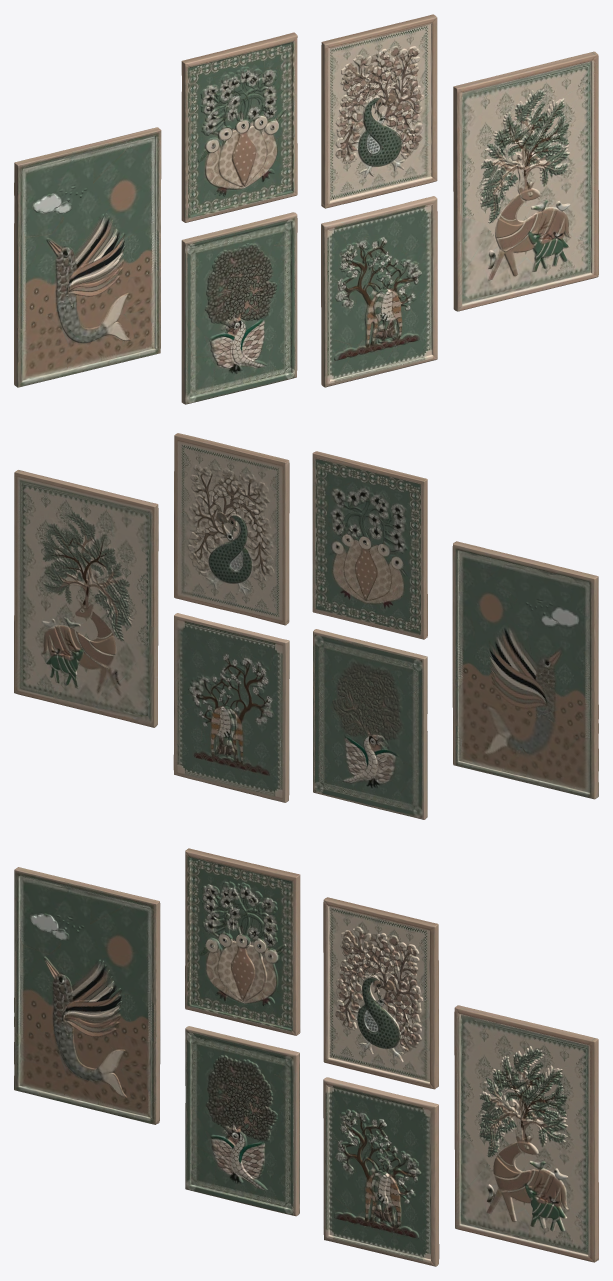
The model's file is Meshy_AI_Enchanted_Folk_Menage_0920121903_texture.glb.
The picture shows the model from 3 angles, top to bottom: view 1: azimuth 30°, elevation 25°; view 2: azimuth 150°, elevation 25°; view 3: azimuth 330°, elevation 25°; orthographic projection.
Size of the model in its own units: 1.9 by 1.12 by 0.0453.
1 material, 1 textured.
